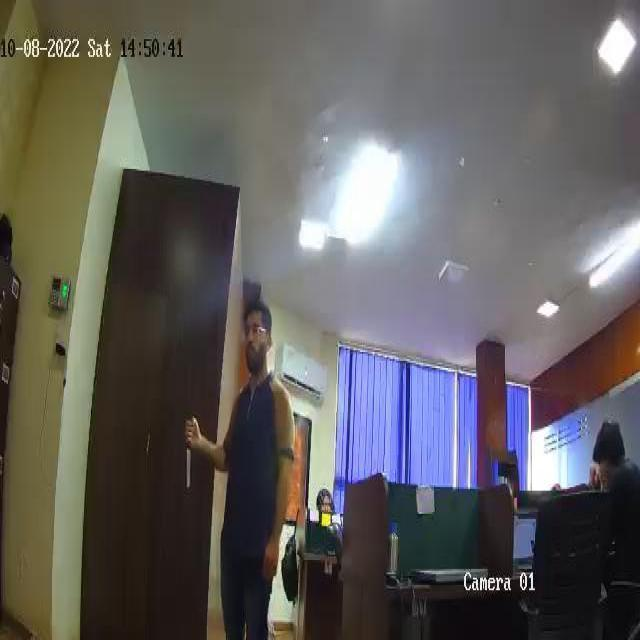Knife: (182, 418, 199, 489)
